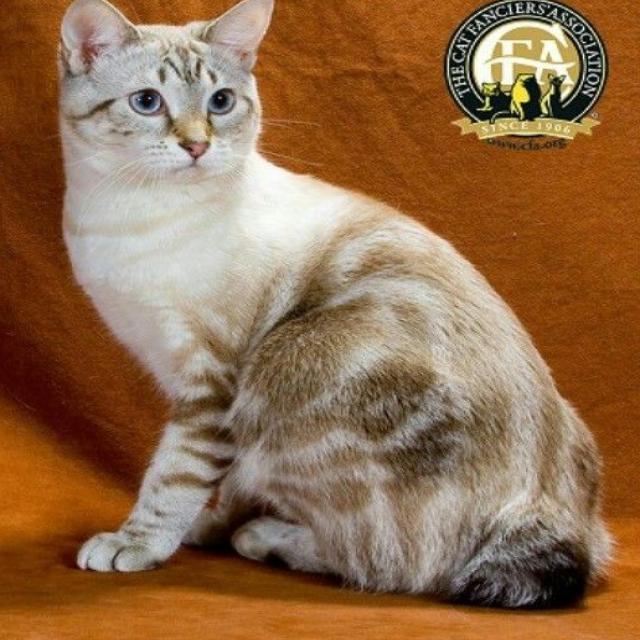American Bobtail: (43, 0, 608, 616)
